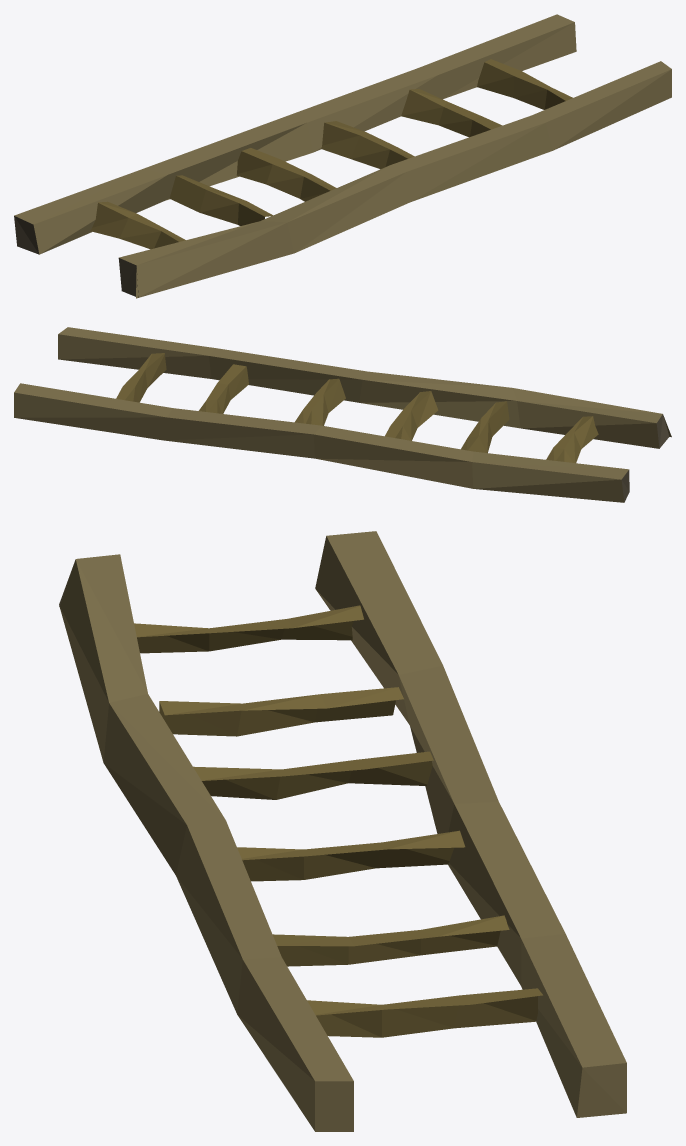
Rendered from obj_ladder_9_0.obj.
The picture shows the model from 3 angles, top to bottom: view 1: azimuth 30°, elevation 25°; view 2: azimuth 150°, elevation 25°; view 3: azimuth 270°, elevation 25°; orthographic projection. The views are drawn at different scales.
Size of the model in its own units: 1.84 by 0.0938 by 0.7969.
